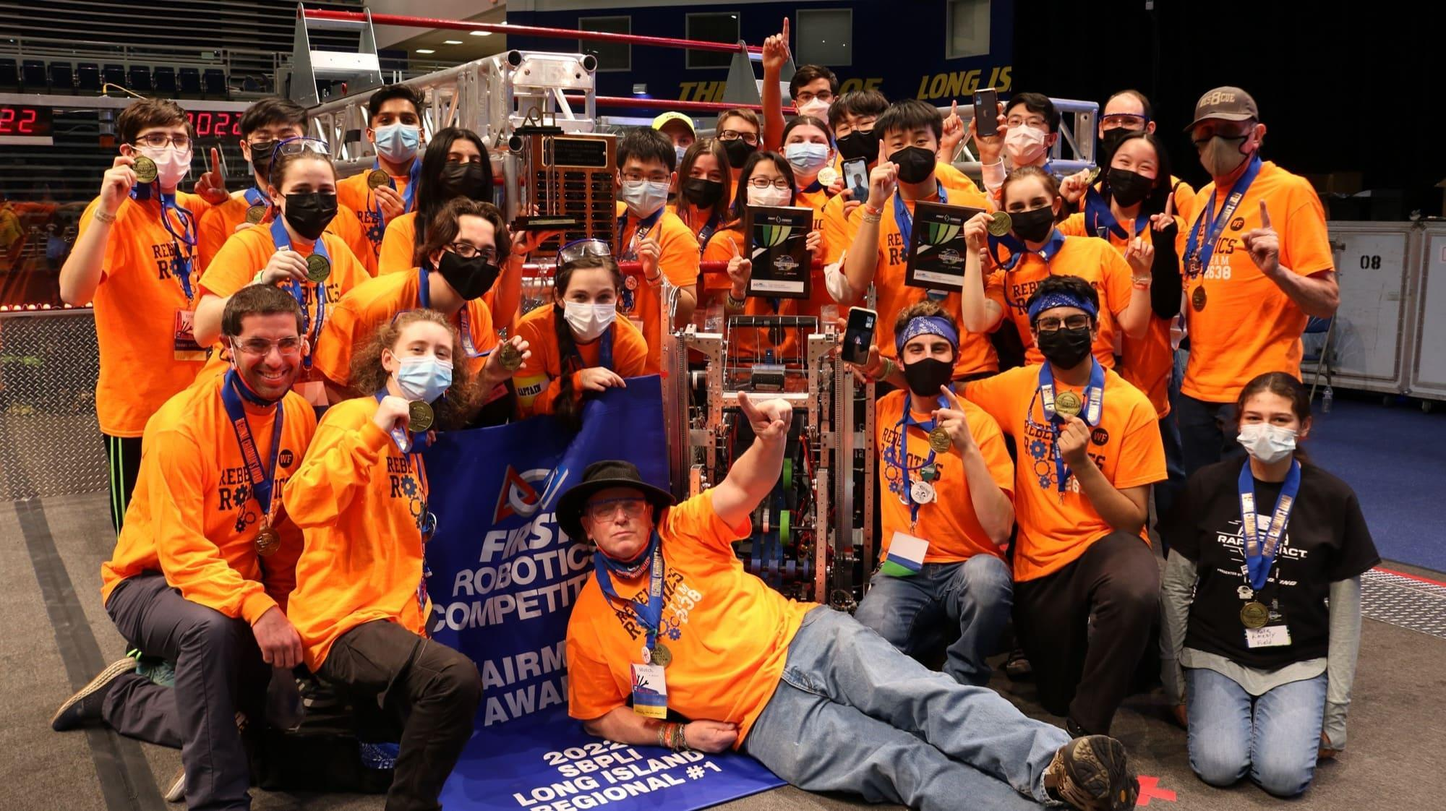robot: (628, 271, 898, 660)
